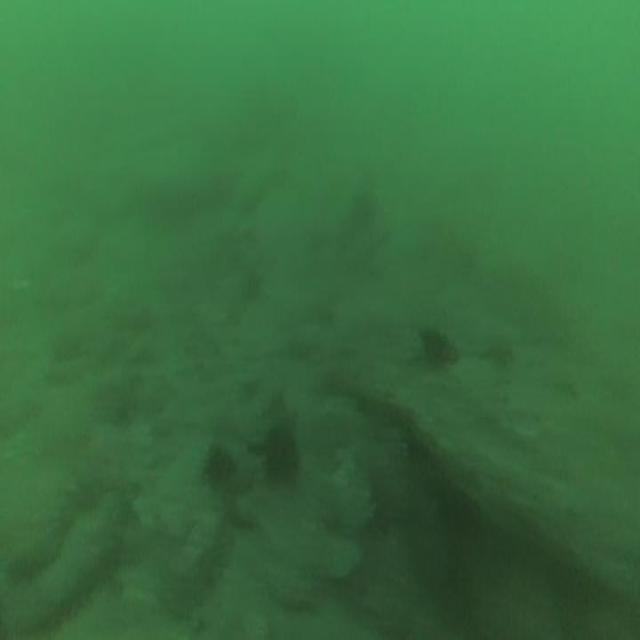echinus: (266, 425, 298, 480), (422, 326, 457, 368), (202, 444, 234, 485)
